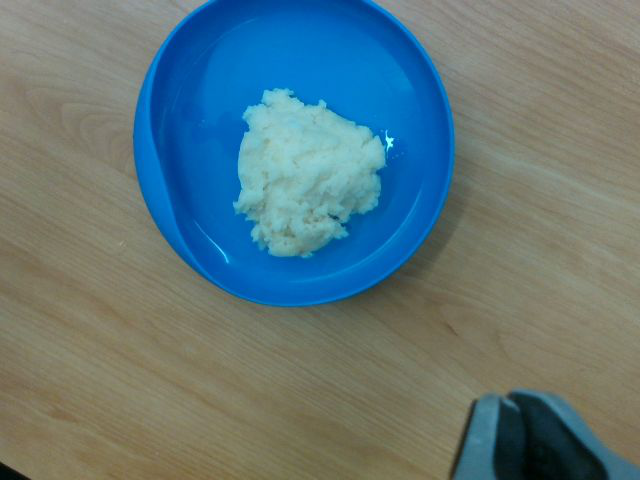mashed_potato: (233, 85, 387, 256)
